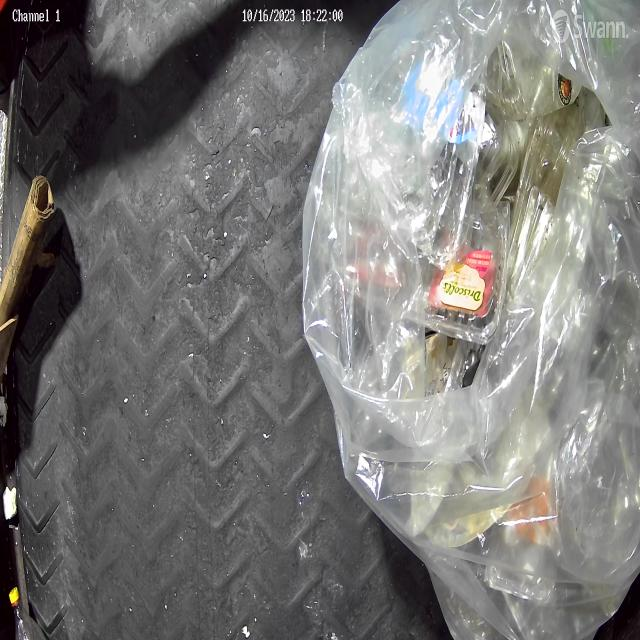plastic_bottle: (9, 585, 45, 640)
